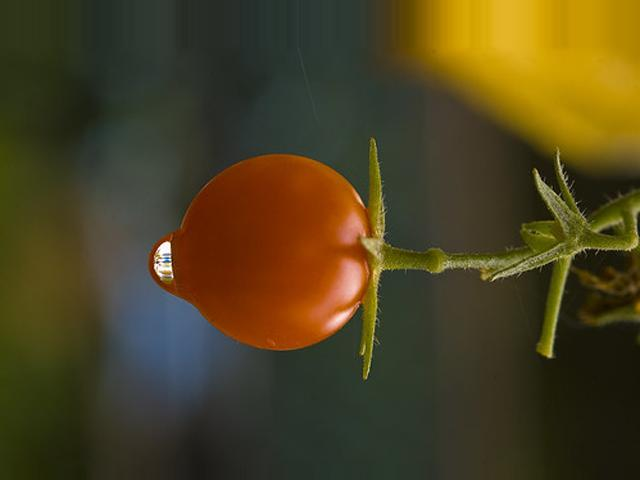tomato: (178, 155, 372, 352)
